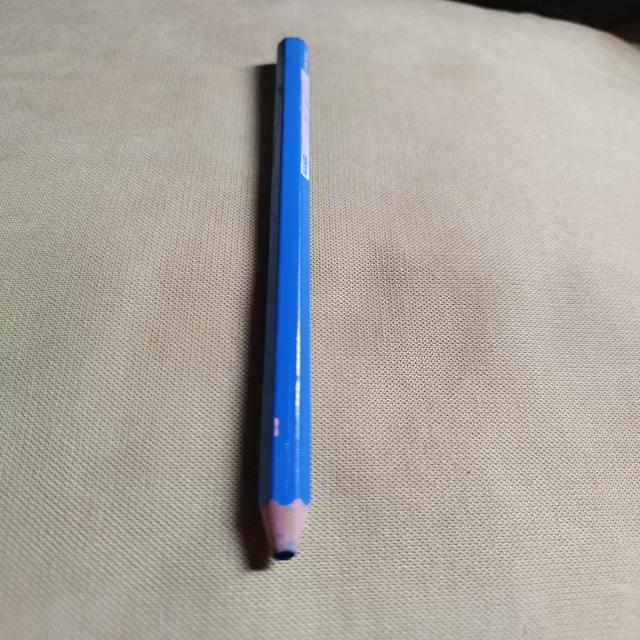pencil: (258, 36, 312, 560)
